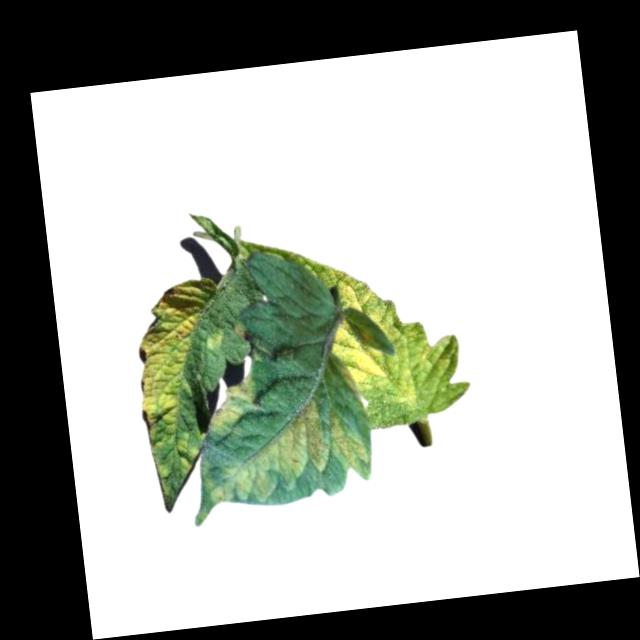Leaf_Mold: (321, 243, 475, 417), (127, 279, 238, 515), (193, 397, 371, 510), (202, 367, 269, 435)
